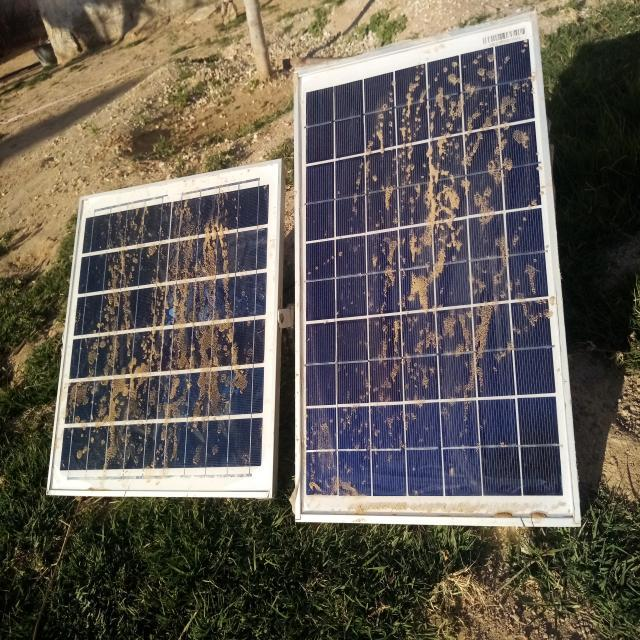faulty: (296, 12, 581, 524), (47, 161, 281, 497)
